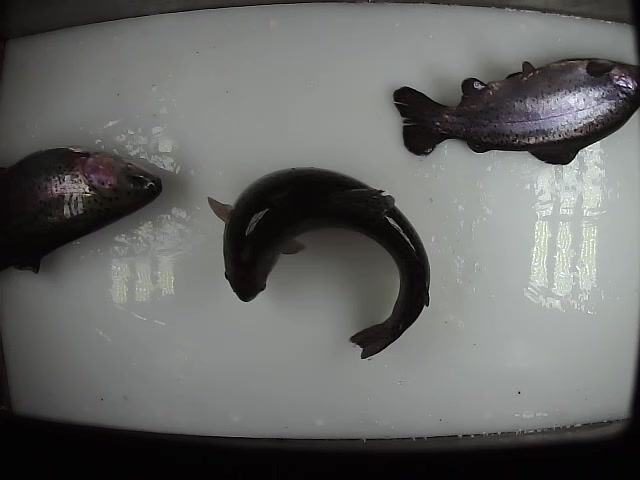fish: (206, 161, 434, 363)
